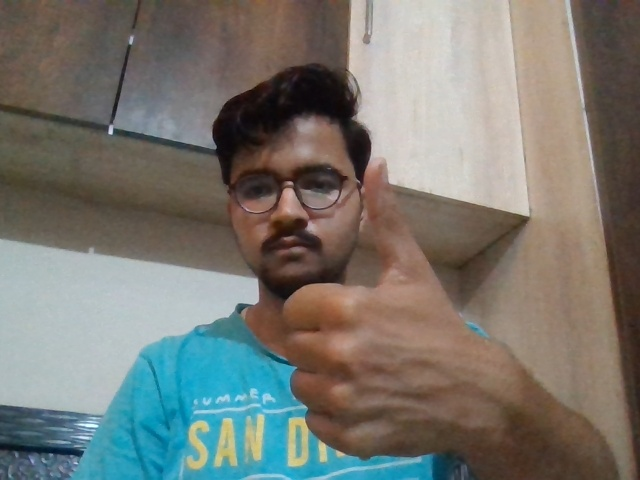yes: (284, 159, 490, 476)
